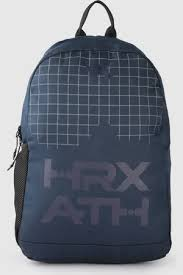backpack: (8, 0, 172, 264)
